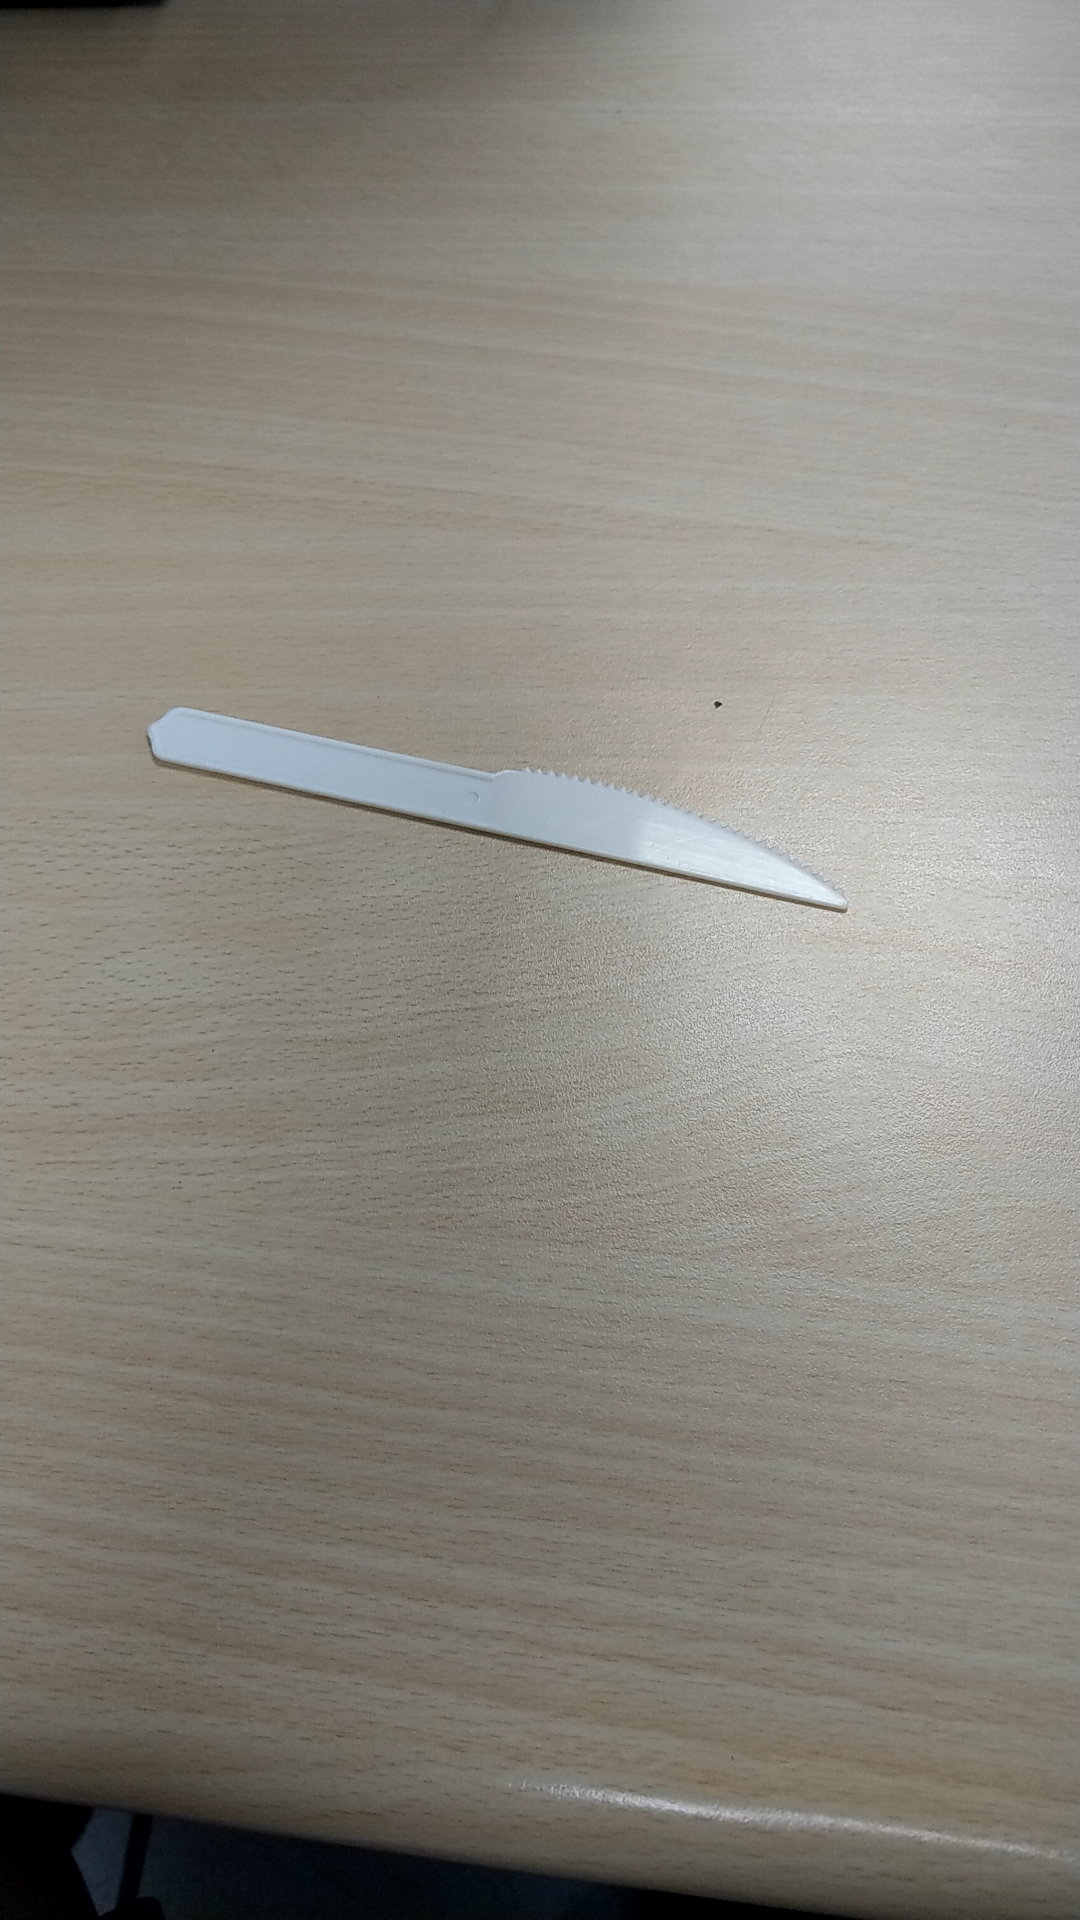knife: (120, 682, 866, 947)
